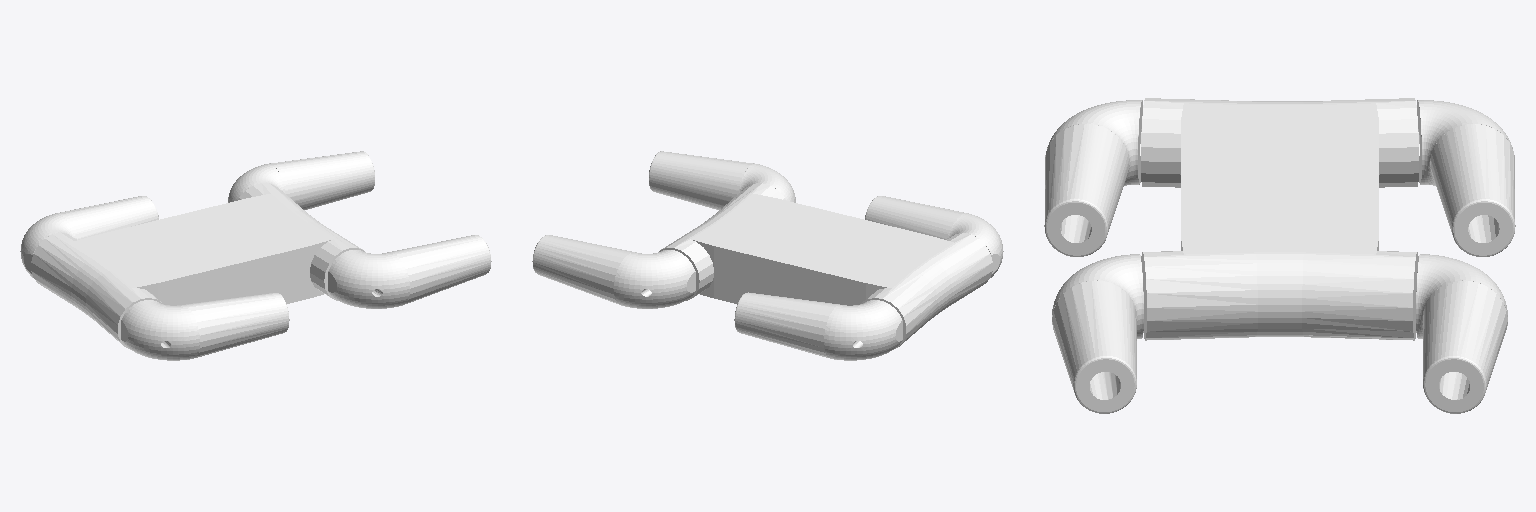
The robot description file, URDF, robot "4_degree":
<?xml version="1.0" encoding="utf-8"?>
<!-- This URDF was automatically created by SolidWorks to URDF Exporter! Originally created by [author] ([email redacted]) 
     Commit Version: 1.5.1-0-g916b5db  Build Version: 1.5.7152.31018
     For more information, please see http://wiki.ros.org/sw_urdf_exporter -->
<robot
  name="4_degree">
  <link
    name="base_link">
    <inertial>
      <origin
        xyz="-2.7756E-17 1.6078E-08 -1.7347E-18"
        rpy="0 0 0" />
      <mass
        value="2.942" />
      <inertia
        ixx="0.0109724"
        ixy="-2.7247E-18"
        ixz="-1.052E-10"
        iyy="0.0378909"
        iyz="2.7757E-19"
        izz="0.0462451" />
    </inertial>
    <visual>
      <origin
        xyz="0 0 0"
        rpy="0 0 0" />
      <geometry>
        <mesh
          filename="package://4_degree/meshes/base_link.STL" />
      </geometry>
      <material
        name="">
        <color
          rgba="1 1 1 1" />
      </material>
    </visual>
    <collision>
      <origin
        xyz="0 0 0"
        rpy="0 0 0" />
      <geometry>
        <mesh
          filename="package://4_degree/meshes/base_link.STL" />
      </geometry>
    </collision>
  </link>
  <link
    name="left_front_link">
    <inertial>
      <origin
        xyz="-2.6147E-08 0.05683 -0.036011"
        rpy="0 0 0" />
      <mass
        value="0.095" />
      <inertia
        ixx="0.0002672"
        ixy="5.8899E-10"
        ixz="9.3094E-10"
        iyy="0.0000540"
        iyz="2.33E-05"
        izz="0.0002642" />
    </inertial>
    <visual>
      <origin
        xyz="0 0 0"
        rpy="0 0 0" />
      <geometry>
        <mesh
          filename="package://4_degree/meshes/left_front_link.STL" />
      </geometry>
      <material
        name="">
        <color
          rgba="1 1 1 1" />
      </material>
    </visual>
    <collision>
      <origin
        xyz="0 0 0"
        rpy="0 0 0" />
      <geometry>
        <mesh
          filename="package://4_degree/meshes/left_front_link.STL" />
      </geometry>
    </collision>
  </link>
  <joint
    name="left_front_leg"
    type="continuous">
    <origin
      xyz="0.13718 0.10275 0"
      rpy="1.6406 1.5708 0" />
    <parent
      link="base_link" />
    <child
      link="left_front_link" />
    <axis
      xyz="0 0 -1" />
    <limit
      effort="5"
      velocity="487" />
  </joint>
  <link
    name="right_front_link">
    <inertial>
      <origin
        xyz="2.6147E-08 0.05683 0.036011"
        rpy="0 0 0" />
      <mass
        value="0.095" />
      <inertia
        ixx="0.0002672"
        ixy="-5.8899E-10"
        ixz="9.3094E-10"
        iyy="0.0000540"
        iyz="-2.33E-05"
        izz="0.0002642" />
    </inertial>
    <visual>
      <origin
        xyz="0 0 0"
        rpy="0 0 0" />
      <geometry>
        <mesh
          filename="package://4_degree/meshes/right_front_link.STL" />
      </geometry>
      <material
        name="">
        <color
          rgba="1 1 1 1" />
      </material>
    </visual>
    <collision>
      <origin
        xyz="0 0 0"
        rpy="0 0 0" />
      <geometry>
        <mesh
          filename="package://4_degree/meshes/right_front_link.STL" />
      </geometry>
    </collision>
  </link>
  <joint
    name="right_front_leg"
    type="continuous">
    <origin
      xyz="0.13718 -0.10275 0"
      rpy="1.501 1.5708 0" />
    <parent
      link="base_link" />
    <child
      link="right_front_link" />
    <axis
      xyz="0 0 1" />
    <limit
      effort="5"
      velocity="487" />
  </joint>
  <link
    name="right_back_link">
    <inertial>
      <origin
        xyz="6.6001E-09 0.05683 0.03601"
        rpy="0 0 0" />
      <mass
        value="0.095" />
      <inertia
        ixx="0.0002672"
        ixy="-6.7247E-10"
        ixz="6.8674E-10"
        iyy="0.0000540"
        iyz="-2.33E-05"
        izz="0.0002642" />
    </inertial>
    <visual>
      <origin
        xyz="0 0 0"
        rpy="0 0 0" />
      <geometry>
        <mesh
          filename="package://4_degree/meshes/right_back_link.STL" />
      </geometry>
      <material
        name="">
        <color
          rgba="1 1 1 1" />
      </material>
    </visual>
    <collision>
      <origin
        xyz="0 0 0"
        rpy="0 0 0" />
      <geometry>
        <mesh
          filename="package://4_degree/meshes/right_back_link.STL" />
      </geometry>
    </collision>
  </link>
  <joint
    name="right_back_leg"
    type="continuous">
    <origin
      xyz="-0.13718 -0.10275 0"
      rpy="1.6406 1.5708 0" />
    <parent
      link="base_link" />
    <child
      link="right_back_link" />
    <axis
      xyz="0 0 1" />
    <limit
      effort="5"
      velocity="487" />
  </joint>
  <link
    name="left_back_link">
    <inertial>
      <origin
        xyz="-6.6001E-09 0.05683 -0.03601"
        rpy="0 0 0" />
      <mass
        value="0.095" />
      <inertia
        ixx="0.0002672"
        ixy="6.7247E-10"
        ixz="6.8674E-10"
        iyy="0.0000540"
        iyz="2.33E-05"
        izz="0.0002642" />
    </inertial>
    <visual>
      <origin
        xyz="0 0 0"
        rpy="0 0 0" />
      <geometry>
        <mesh
          filename="package://4_degree/meshes/left_back_link.STL" />
      </geometry>
      <material
        name="">
        <color
          rgba="1 1 1 1" />
      </material>
    </visual>
    <collision>
      <origin
        xyz="0 0 0"
        rpy="0 0 0" />
      <geometry>
        <mesh
          filename="package://4_degree/meshes/left_back_link.STL" />
      </geometry>
    </collision>
  </link>
  <joint
    name="left_back_leg"
    type="continuous">
    <origin
      xyz="-0.13718 0.10275 0"
      rpy="1.501 1.5708 0" />
    <parent
      link="base_link" />
    <child
      link="left_back_link" />
    <axis
      xyz="0 0 -1" />
    <limit
      effort="5"
      velocity="487" />
  </joint>
</robot>

--- Render facts (derived) ---
Views: 3 orthographic renders of the robot side by side, from view 1: azimuth 30°, elevation 25°; view 2: azimuth 150°, elevation 25°; view 3: azimuth 270°, elevation 25°.
Robot: 4_degree — 5 links, 4 joints (4 continuous); root link base_link; default pose: every joint at zero.
Links seen in each view (by area): view 1: base_link, right_back_link, right_front_link, left_front_link, left_back_link; view 2: base_link, left_back_link, left_front_link, right_front_link, right_back_link; view 3: base_link, right_back_link, left_back_link, left_front_link, right_front_link.
Boxes of the visible links, left/top/right/bottom form: base_link: left=31, top=183, right=364, bottom=348; right_back_link: left=121, top=292, right=289, bottom=360; right_front_link: left=328, top=235, right=491, bottom=308; left_front_link: left=228, top=151, right=374, bottom=209; left_back_link: left=20, top=196, right=158, bottom=277; base_link: left=659, top=183, right=992, bottom=348; left_back_link: left=734, top=292, right=902, bottom=360; left_front_link: left=532, top=235, right=695, bottom=308; right_front_link: left=649, top=151, right=795, bottom=209; right_back_link: left=865, top=196, right=1003, bottom=277; base_link: left=1141, top=98, right=1418, bottom=340; right_back_link: left=1044, top=100, right=1142, bottom=256; left_back_link: left=1417, top=100, right=1515, bottom=256; left_front_link: left=1416, top=254, right=1507, bottom=413; right_front_link: left=1052, top=254, right=1143, bottom=413.
Bounding box of the posed robot: 0.4694 × 0.3556 × 0.0672 m (x, y, z).
Meshes: 5 distinct files referenced, 5 mesh visuals loaded (5 binary STL).